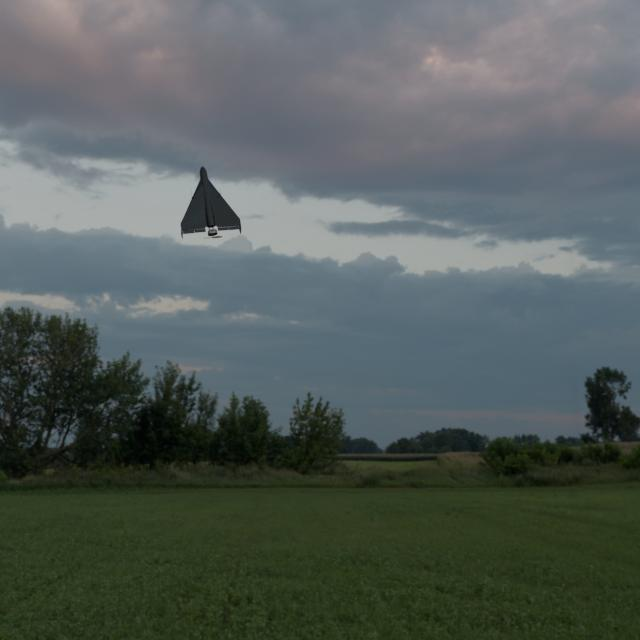Airaplan: (180, 166, 241, 239)
